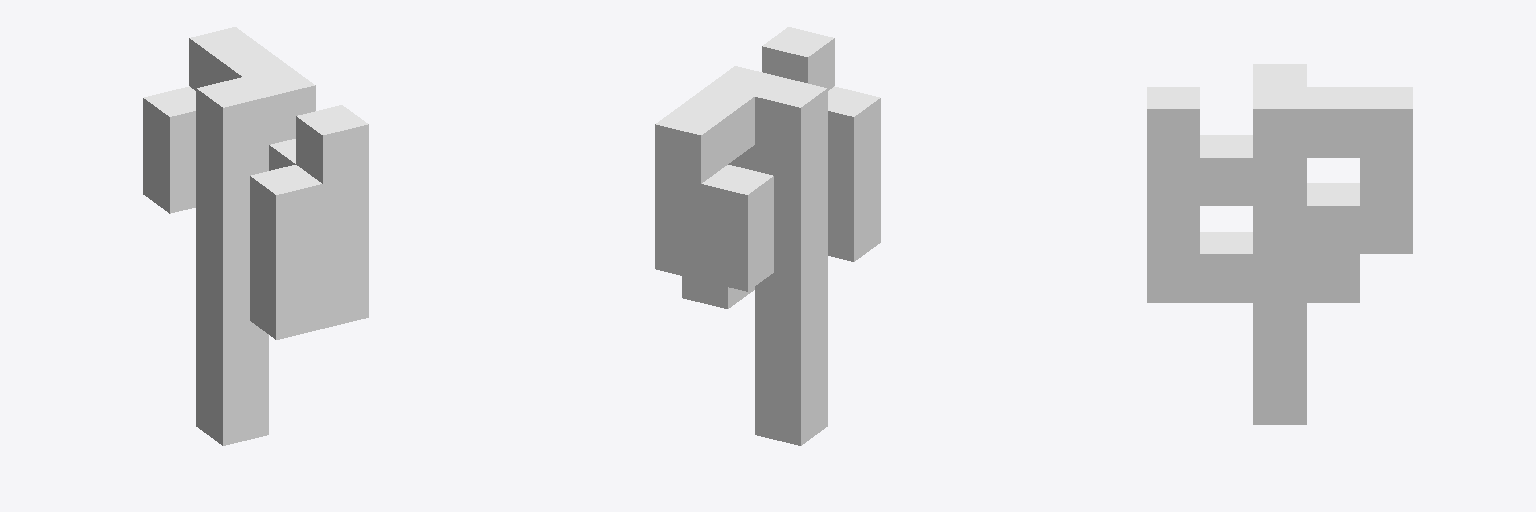
File: FLAG.obj
3 renders of one model, left to right at view 1: azimuth 30°, elevation 25°; view 2: azimuth 150°, elevation 25°; view 3: azimuth 270°, elevation 25°, orthographic.
Visible parts, largest first — view 1: FLAG; view 2: FLAG; view 3: FLAG.
Part boxes in pixels (bbox=[...]): FLAG: bbox=[143, 27, 368, 445]; FLAG: bbox=[655, 27, 880, 445]; FLAG: bbox=[1147, 64, 1412, 424].
Bounding box in the file's own units: 2 × 7 × 5.